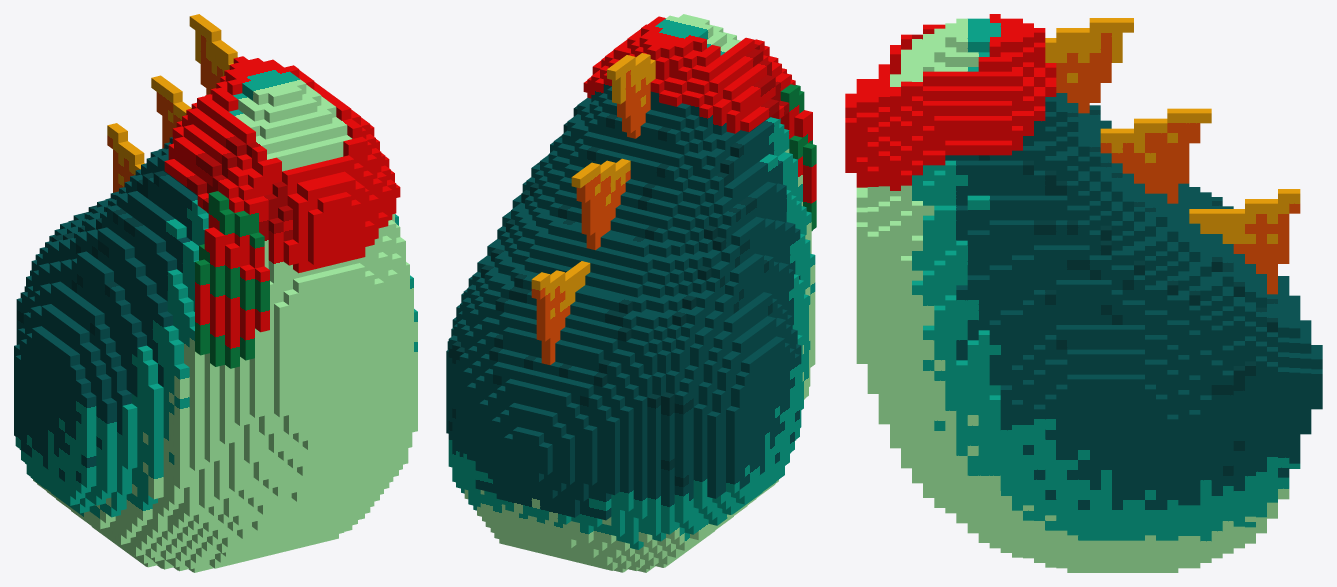
File: red scarf.gltf
3 views of the same model, side by side, from view 1: azimuth 30°, elevation 25°; view 2: azimuth 150°, elevation 25°; view 3: azimuth 270°, elevation 25° (orthographic). The views are drawn at different scales.
Parts seen in each view (by area): view 1: 03_Body_RedScarf-Mesh; view 2: 03_Body_RedScarf-Mesh; view 3: 03_Body_RedScarf-Mesh.
Boxes of the visible parts, x1=… form: 03_Body_RedScarf-Mesh: x1=14, y1=14, x2=417, y2=572; 03_Body_RedScarf-Mesh: x1=446, y1=14, x2=816, y2=572; 03_Body_RedScarf-Mesh: x1=845, y1=14, x2=1322, y2=572.
Bounding box in the file's own units: 33 × 51 × 43.
1 material, 1 textured.
